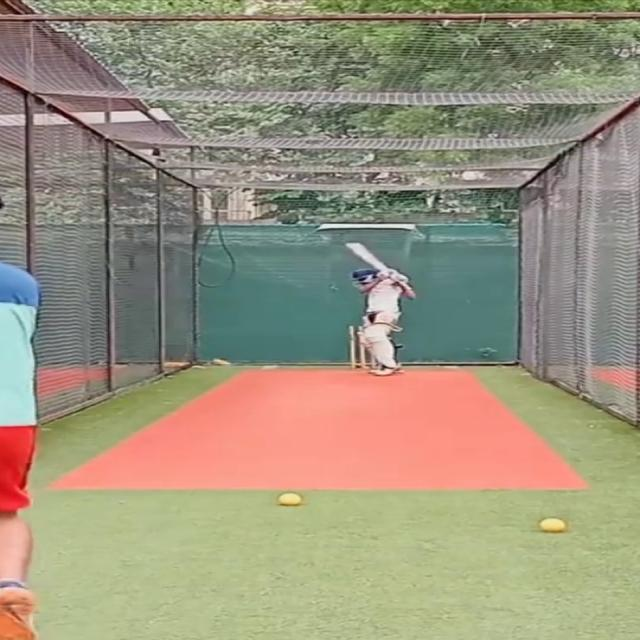ball: (534, 516, 566, 534), (275, 490, 302, 507)
stump: (344, 323, 365, 371)
